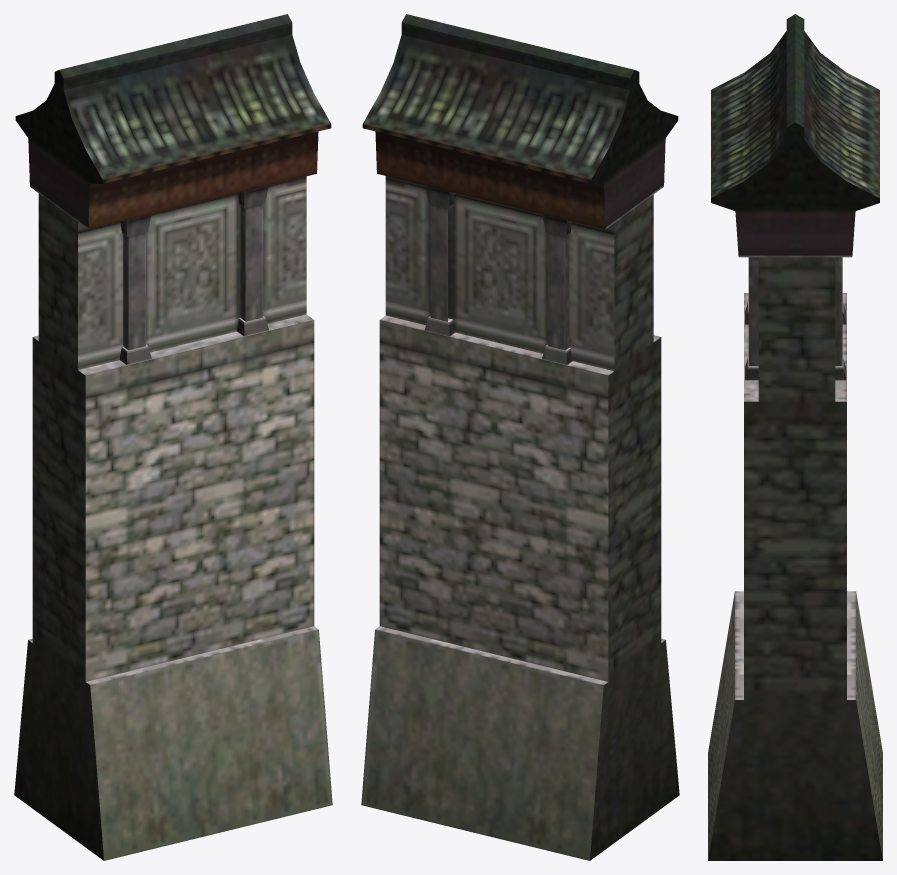
Rendered from c1-middledam-04.glb.
3 views of the same model, side by side, from view 1: azimuth 30°, elevation 25°; view 2: azimuth 150°, elevation 25°; view 3: azimuth 270°, elevation 25° (orthographic). The views are drawn at different scales.
Parts seen in each view (by area): view 1: b1-middledam-04; view 2: b1-middledam-04; view 3: b1-middledam-04.
Part boxes in pixels (x1,y1,x2,y2): b1-middledam-04: (14,14,332,860); b1-middledam-04: (361,14,679,860); b1-middledam-04: (708,14,882,860).
Bounding box in the file's own units: 2.5 × 7.92 × 1.7.
Materials: 1 (1 with a texture image).
